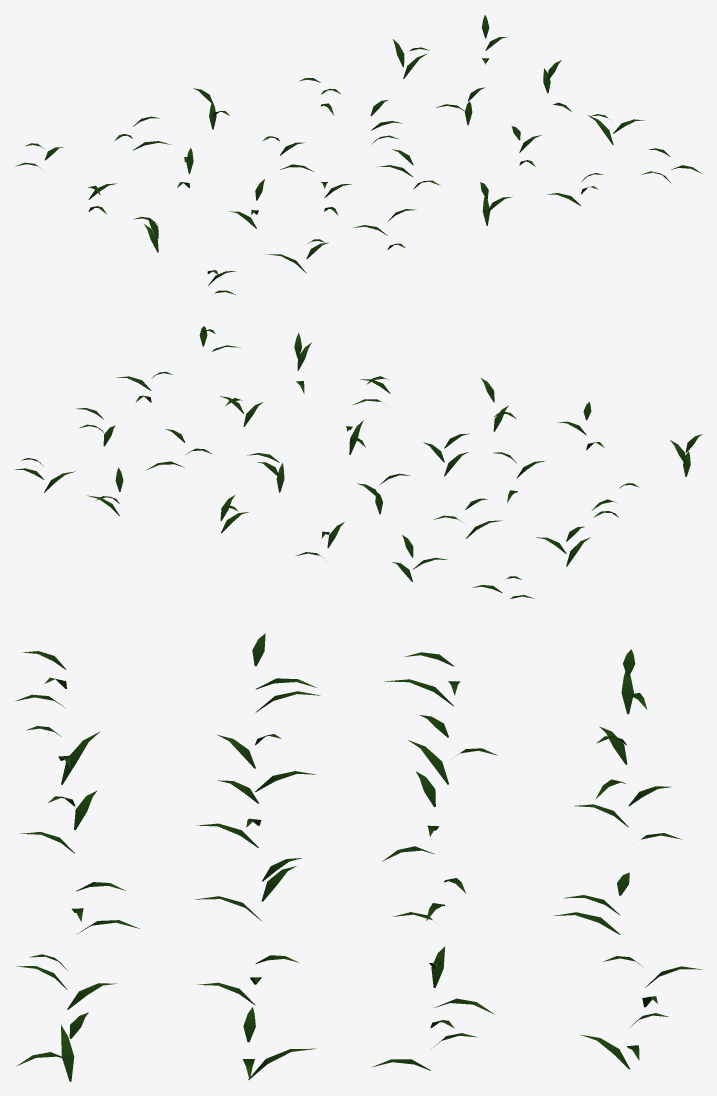
File: fm_maize_1.glb
3 renders of one model, top to bottom at view 1: azimuth 30°, elevation 25°; view 2: azimuth 150°, elevation 25°; view 3: azimuth 270°, elevation 25°, orthographic. The views are drawn at different scales.
Visible parts, largest first — view 1: fm_maize_1; view 2: fm_maize_1; view 3: fm_maize_1.
Boxes of the visible parts, <box> form: fm_maize_1: <box>15,15,701,294</box>; fm_maize_1: <box>14,326,702,598</box>; fm_maize_1: <box>15,633,702,1081</box>.
Size of the model in its own units: 3.85 by 0.2996 by 2.68.
